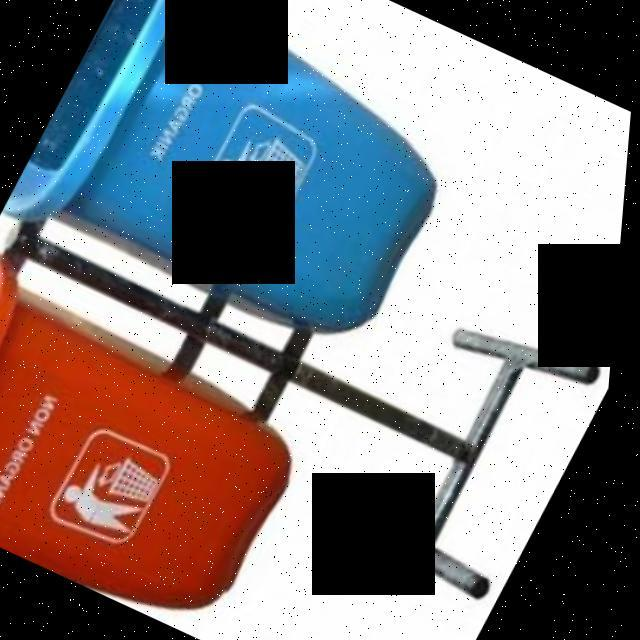bin: (0, 0, 565, 425), (0, 249, 406, 640)
